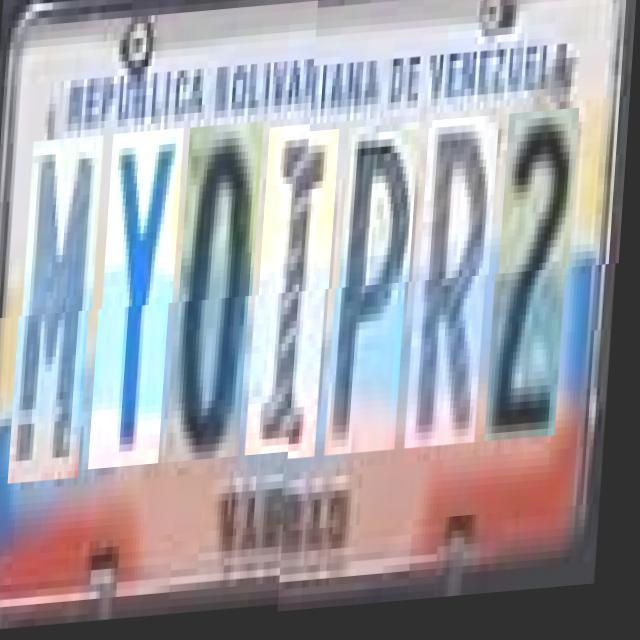2: (494, 118, 582, 450)
I: (255, 135, 342, 468)
M: (18, 144, 106, 492)
O: (174, 134, 265, 474)
P: (334, 130, 422, 462)
R: (414, 124, 502, 457)
Y: (98, 140, 186, 478)
